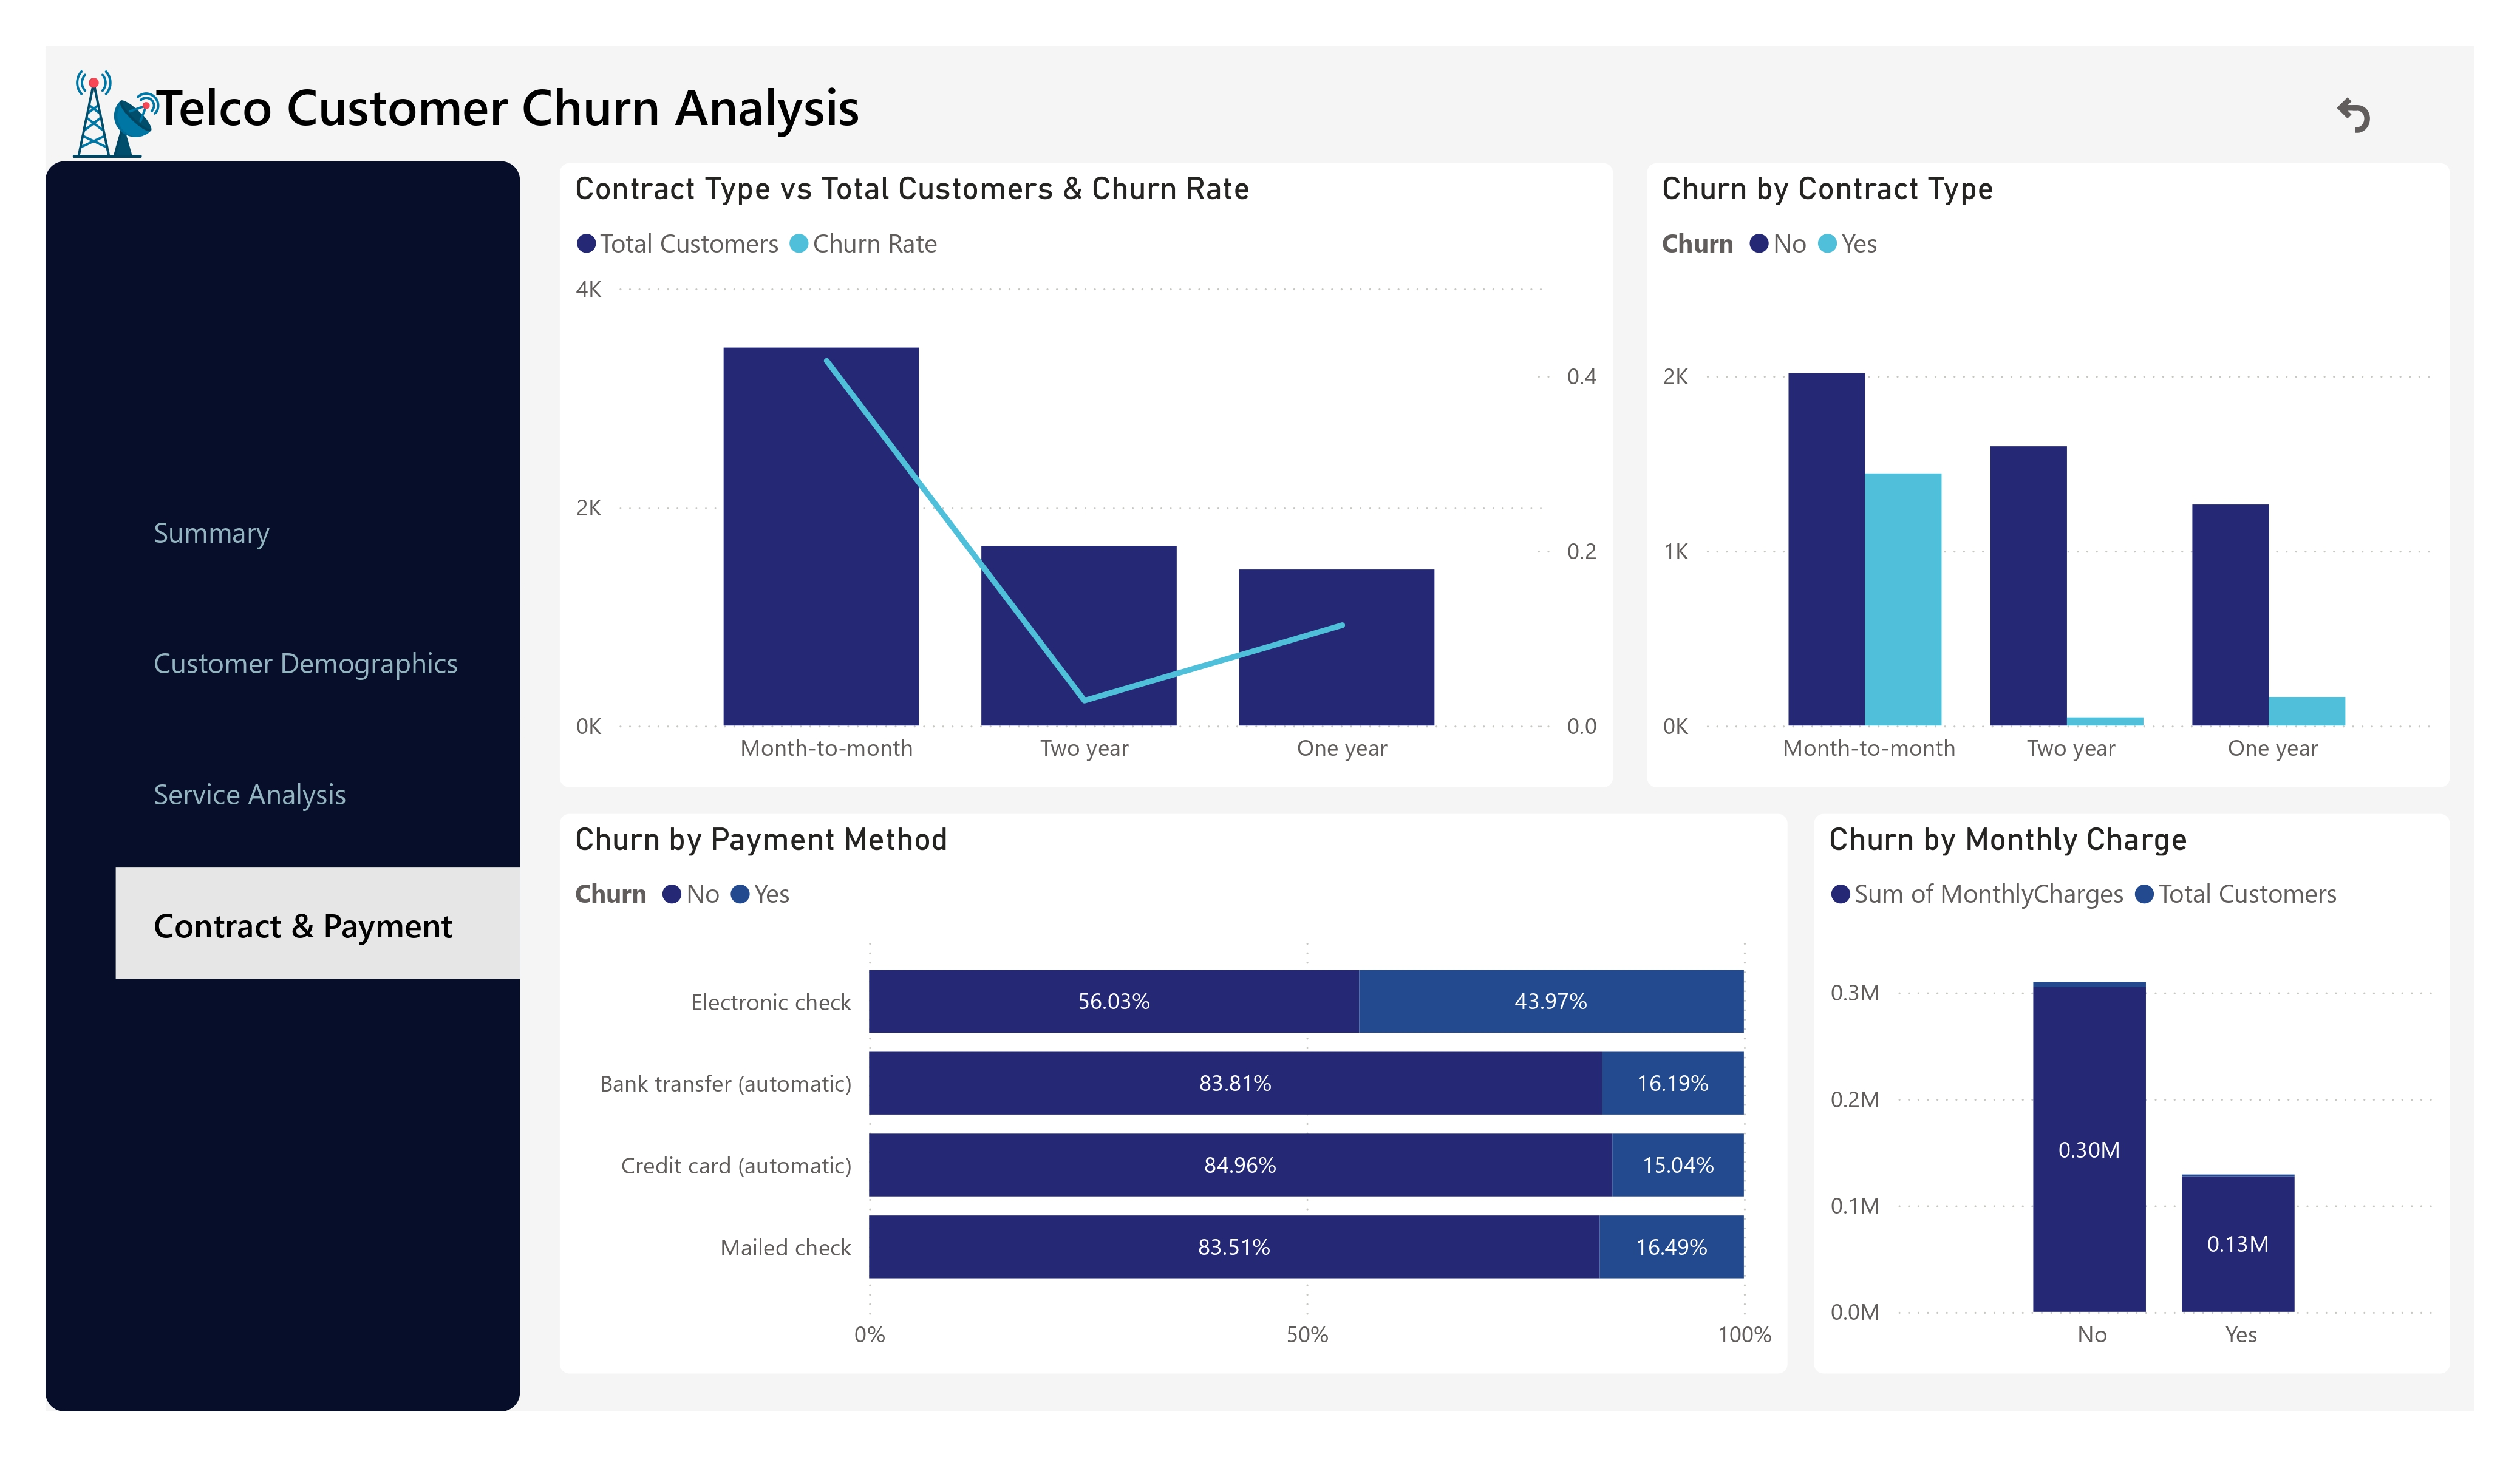

The dashboard page shown, as its layout file describes it:
{"tool":"powerbi","page":{"name":"Contract & Payment","canvas":[1280,720],"ordinal":3},"visuals":[{"type":"shape","box":[0,61,250,659],"z":0},{"type":"pageNavigator","box":[36.8,226.3,213.2,267.1],"z":1000},{"type":"textbox","box":[52.5,7.5,396.2,55],"z":2000},{"type":"image","box":[14.1,0,46.2,70.5],"z":3000},{"type":"lineClusteredColumnComboChart","title":"Contract Type vs Total Customers & Churn Rate","fields":{"Category":["Telco-Customer-Churn.Contract"],"Y":["Telco-Customer-Churn.Total Customers"],"Y2":["Telco-Customer-Churn.Churn Rate"]},"box":[270.5,61.5,555.1,329.5],"z":4000},{"type":"clusteredColumnChart","title":"Churn by Contract Type","fields":{"Category":["Telco-Customer-Churn.Contract"],"Series":["Telco-Customer-Churn.Churn"],"Y":["Telco-Customer-Churn.Total Customers"]},"box":[843.6,61.5,423.1,329.5],"z":5000},{"type":"hundredPercentStackedBarChart","title":" Churn by Payment Method ","fields":{"Category":["Telco-Customer-Churn.PaymentMethod"],"Y":["Telco-Customer-Churn.Total Customers"],"Series":["Telco-Customer-Churn.Churn"]},"box":[270.5,405.1,647.4,294.9],"z":6000},{"type":"columnChart","title":"Churn by Monthly Charge","fields":{"Category":["Telco-Customer-Churn.Churn"],"Y":["Sum(Telco-Customer-Churn.MonthlyCharges)","Telco-Customer-Churn.Total Customers"]},"box":[932.1,405.1,334.6,294.9],"z":7000},{"type":"actionButton","box":[1202.9,22.9,64.3,27.1],"z":8000}]}

Visuals, with their boxes on the page's 1280x720 design canvas (x1, y1, x2, y2). These are canvas units, not pixel positions in the 2520x1457 screenshot, which may show the page scaled, cropped or inside an application window:
shape: [0, 61, 250, 720]
pageNavigator: [37, 226, 250, 493]
textbox: [52, 8, 449, 62]
image: [14, 0, 60, 70]
"Contract Type vs Total Customers & Churn Rate" lineClusteredColumnComboChart: [270, 62, 826, 391]
"Churn by Contract Type" clusteredColumnChart: [844, 62, 1267, 391]
" Churn by Payment Method " hundredPercentStackedBarChart: [270, 405, 918, 700]
"Churn by Monthly Charge" columnChart: [932, 405, 1267, 700]
actionButton: [1203, 23, 1267, 50]
